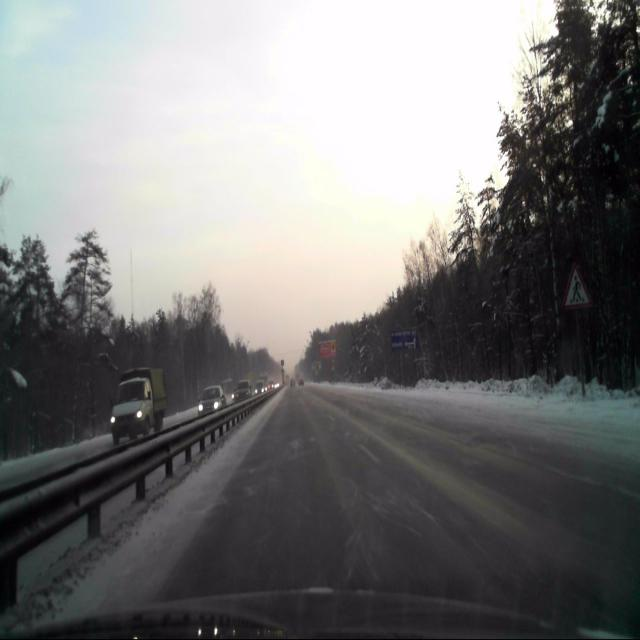road sign: (562, 269, 590, 311)
